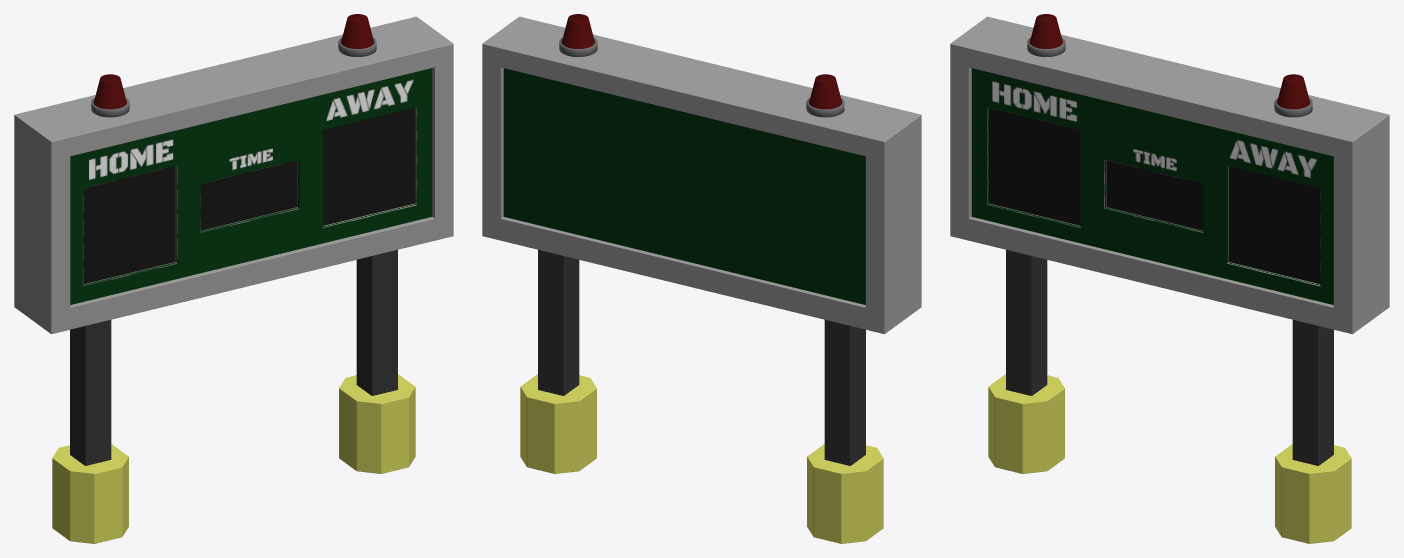
Rendered from skor.glb.
The picture shows the model from 3 angles, left to right: view 1: azimuth 30°, elevation 25°; view 2: azimuth 150°, elevation 25°; view 3: azimuth 330°, elevation 25°; orthographic projection.
Visible parts, largest first — view 1: ScoreBoard, Home Light, Away Light.001; view 2: ScoreBoard, Home Light, Away Light.001; view 3: ScoreBoard, Away Light.001, Home Light.
Boxes of the visible parts, <box> form: ScoreBoard: <box>14,16,453,543</box>; Home Light: <box>91,74,129,117</box>; Away Light.001: <box>338,14,376,56</box>; ScoreBoard: <box>482,16,921,543</box>; Home Light: <box>806,74,844,117</box>; Away Light.001: <box>559,14,597,56</box>; ScoreBoard: <box>950,16,1389,543</box>; Away Light.001: <box>1274,74,1312,117</box>; Home Light: <box>1027,14,1065,56</box>.
Size of the model in its own units: 11.4 by 12.02 by 1.83.
2 materials, 2 textured.
